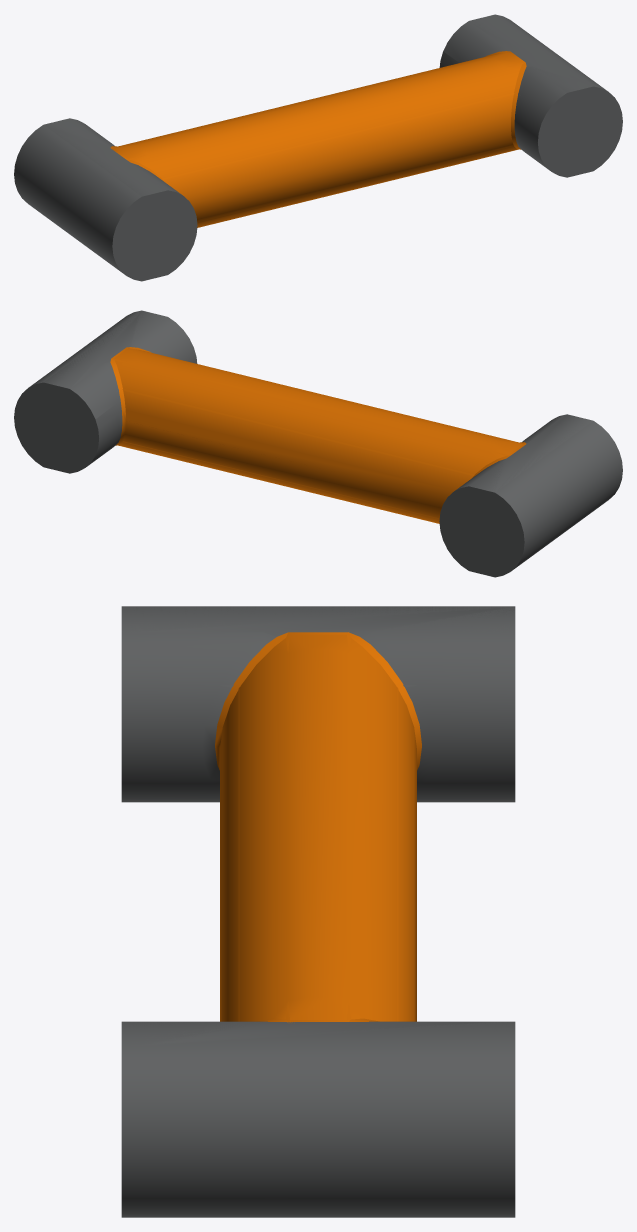
3 views of the same model, one above another, from view 1: azimuth 30°, elevation 25°; view 2: azimuth 150°, elevation 25°; view 3: azimuth 270°, elevation 25° (orthographic). The views are drawn at different scales.
Visible parts, largest first — view 1: k2_LOD0, k2_col; view 2: k2_LOD0, k2_col; view 3: k2_LOD0, k2_col.
Boxes of the visible parts, x1=… form: k2_LOD0: x1=14, y1=14, x2=622, y2=281; k2_col: x1=44, y1=16, x2=622, y2=280; k2_LOD0: x1=14, y1=310, x2=622, y2=577; k2_col: x1=14, y1=311, x2=592, y2=576; k2_LOD0: x1=121, y1=606, x2=515, y2=1217; k2_col: x1=121, y1=606, x2=515, y2=1045.
Size of what is drawn, in the model's own units: 71.93 by 11.93 by 24.
